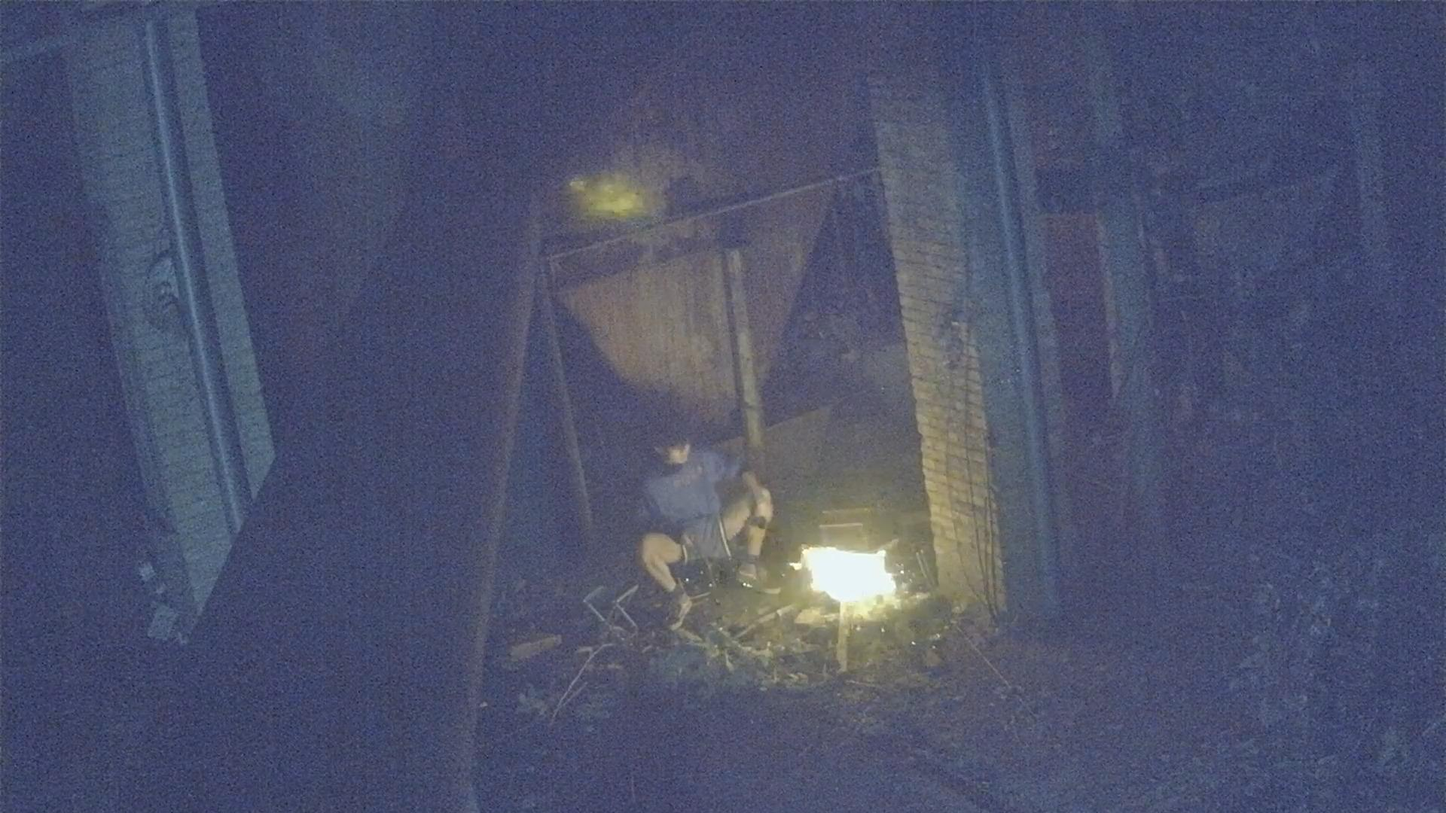fire: (803, 547, 895, 602)
